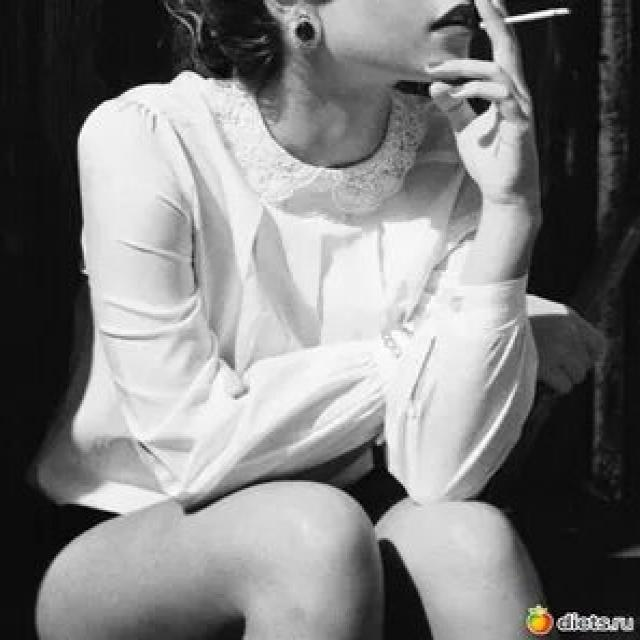smoke: (474, 6, 575, 32)
